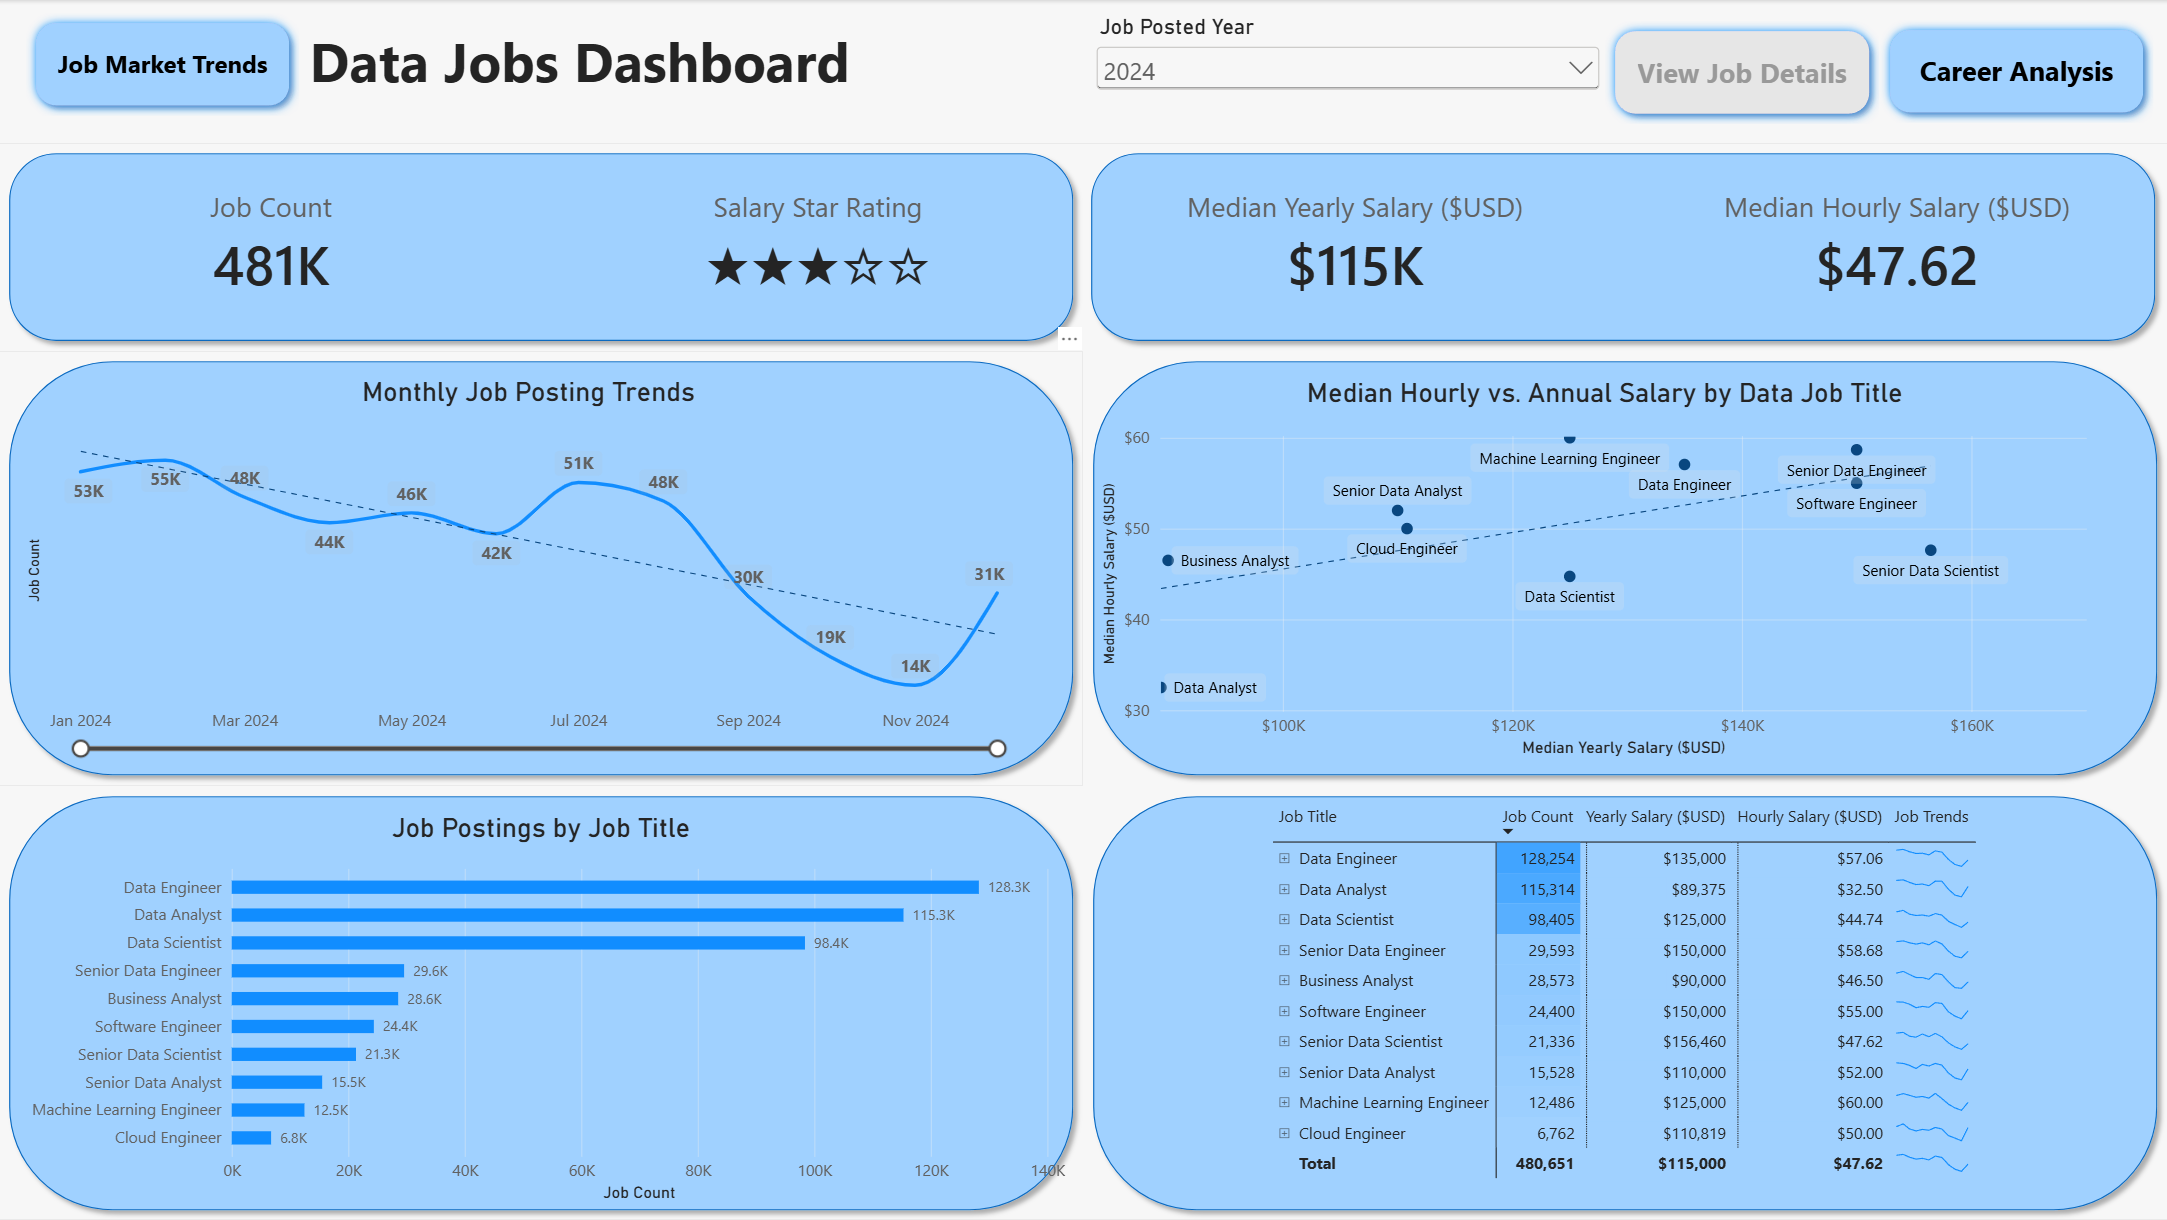

This screenshot's page, from the dashboard's own definition file:
{"tool":"powerbi","page":{"name":"Data Jobs Dashboard","canvas":[1920,1080],"ordinal":0},"visuals":[{"type":"group","id":"g1","title":"Background","box":[0,126.4,1920,953.5],"z":0},{"type":"shape","box":[0,126.4,960,184.2],"z":0,"group":"g1"},{"type":"textbox","box":[125.1,20.6,778.4,87.4],"z":1000},{"type":"shape","box":[958,126.4,960,184.2],"z":1000,"group":"g1"},{"type":"slicer","fields":{"Values":["job_postings_flat.job_title_short"]},"box":[966.7,12.1,455.4,110.5],"z":2000},{"type":"shape","box":[0,310.6,960,384.6],"z":2000,"group":"g1"},{"type":"cardVisual","fields":{"Data":["Median(job_postings_flat.salary_year_avg)"]},"box":[960.6,122.6,480,187.5],"z":3000},{"type":"shape","box":[960,310.6,960,384.6],"z":3000,"group":"g1"},{"type":"cardVisual","fields":{"Data":["Median(job_postings_flat.salary_hour_avg)"]},"box":[1440.6,122.6,480,187.5],"z":4000},{"type":"shape","box":[0,695.2,960,384.6],"z":4000,"group":"g1"},{"type":"cardVisual","fields":{"Data":["job_postings_flat.Salary Star Rating"]},"box":[485.5,122.6,480,187.5],"z":5000},{"type":"shape","box":[960,695.2,960,384.6],"z":5000,"group":"g1"},{"type":"cardVisual","fields":{"Data":["CountNonNull(job_postings_flat.job_title_short)"]},"box":[0.6,122.6,480,187.5],"z":6000},{"type":"lineChart","title":"Monthly Data Job Postings in 2024","fields":{"Category":["job_postings_flat.job_posted_date.Variation.Date Hierarchy.Year","job_postings_flat.job_posted_date.Variation.Date Hierarchy.Quarter","job_postings_flat.job_posted_date.Variation.Date Hierarchy.Month","job_postings_flat.job_posted_date.Variation.Date Hierarchy.Day"],"Y":["CountNonNull(job_postings_flat.job_title_short)"]},"box":[24,319.3,942.6,366.1],"z":7000},{"type":"barChart","title":"Job Postings by Job Title","fields":{"Category":["job_postings_flat.job_title_short"],"Y":["CountNonNull(job_postings_flat.job_title_short)"]},"box":[0,695.2,929.5,384.7],"z":8000},{"type":"scatterChart","title":"Median Hourly vs. Annual Salary by Data Job Title","fields":{"Series":["job_postings_flat.job_title_short"],"X":["Median(job_postings_flat.salary_year_avg)"],"Y":["Median(job_postings_flat.salary_hour_avg)"]},"box":[960,319.3,924,366.1],"z":9000},{"type":"pivotTable","fields":{"Rows":["job_postings_flat.job_title_short","job_postings_flat.job_posted_date.Variation.Date Hierarchy.Quarter"],"Values":["CountNonNull(job_postings_flat.job_title_short)","Median(job_postings_flat.salary_year_avg)","Median(job_postings_flat.salary_hour_avg)","SparklineData(CountNonNull(job_postings_flat.job_title_short)_[job_postings_flat.job_posted_date.Variation.Date Hierarch"]},"box":[1111.5,695.2,657.1,384.7],"z":10000},{"type":"actionButton","box":[1422.1,18.2,242.9,91.1],"z":11000},{"type":"actionButton","box":[1665,18,242,91],"z":12000}]}

Visuals, with their boxes in screenshot pixels (x1, y1, x2, y2), scaled from the page's 1920x1080 canvas onto the 2167x1220 screenshot:
"Background" group: region(0, 143, 2166, 1219)
shape: region(0, 143, 1084, 351)
textbox: region(141, 23, 1020, 122)
shape: region(1081, 143, 2165, 351)
slicer - job_postings_flat.job_title_short: region(1091, 14, 1605, 138)
shape: region(0, 351, 1084, 785)
cardVisual - Median(job_postings_flat.salary_year_avg): region(1084, 138, 1626, 350)
shape: region(1084, 351, 2166, 785)
cardVisual - Median(job_postings_flat.salary_hour_avg): region(1626, 138, 2166, 350)
shape: region(0, 785, 1084, 1219)
cardVisual - job_postings_flat.Salary Star Rating: region(548, 138, 1090, 350)
shape: region(1084, 785, 2166, 1219)
cardVisual - CountNonNull(job_postings_flat.job_title_short): region(1, 138, 542, 350)
"Monthly Data Job Postings in 2024" lineChart: region(27, 361, 1091, 774)
"Job Postings by Job Title" barChart: region(0, 785, 1049, 1219)
"Median Hourly vs. Annual Salary by Data Job Title" scatterChart: region(1084, 361, 2126, 774)
pivotTable - job_postings_flat.job_title_short x job_postings_flat.job_posted_date.Variation.Date Hierarchy.Quarter: region(1254, 785, 1996, 1219)
actionButton: region(1605, 21, 1879, 123)
actionButton: region(1879, 20, 2152, 123)
